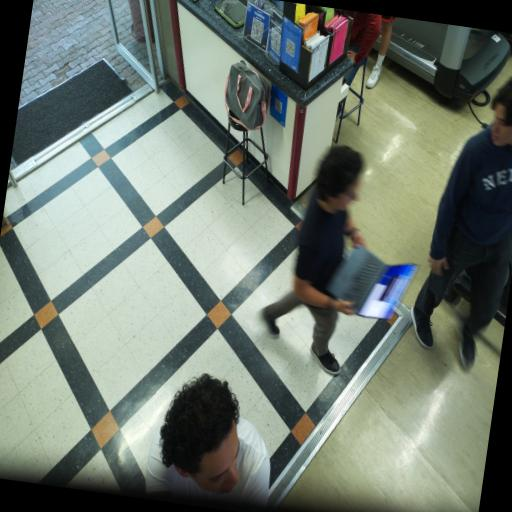person: (411, 79, 511, 369), (263, 146, 364, 374), (146, 374, 270, 507), (344, 11, 382, 85), (366, 15, 396, 88)
